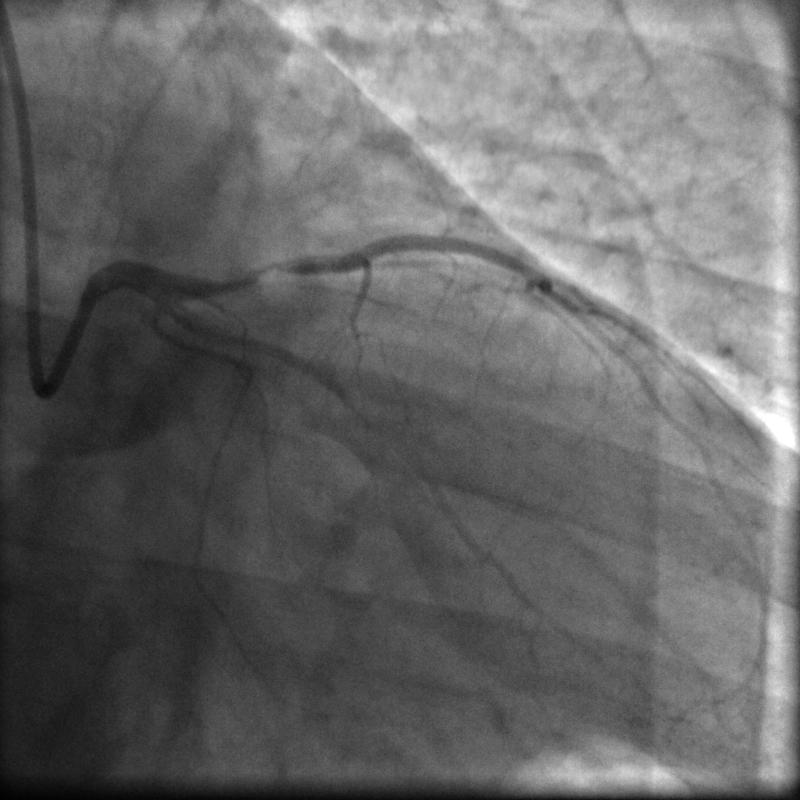Stenosis: (227, 254, 313, 283)
